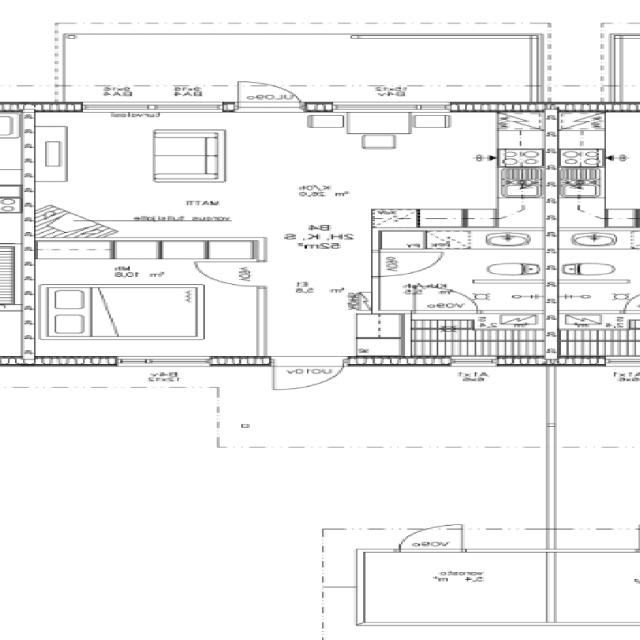door: (275, 356, 344, 393), (236, 76, 304, 113), (413, 285, 478, 314), (400, 524, 462, 553), (192, 262, 266, 286), (372, 252, 442, 277)
